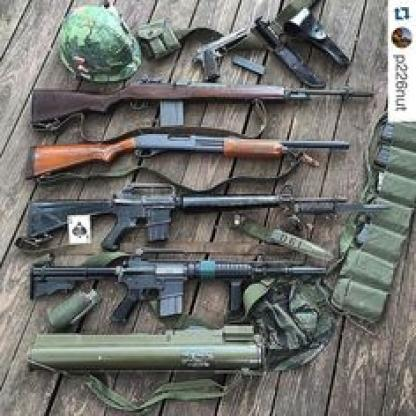Grenade: (46, 287, 102, 333)
Gun: (26, 182, 392, 252), (29, 249, 329, 326), (30, 74, 376, 128), (26, 129, 351, 179), (24, 325, 267, 377)
Pistol: (192, 27, 253, 82)
